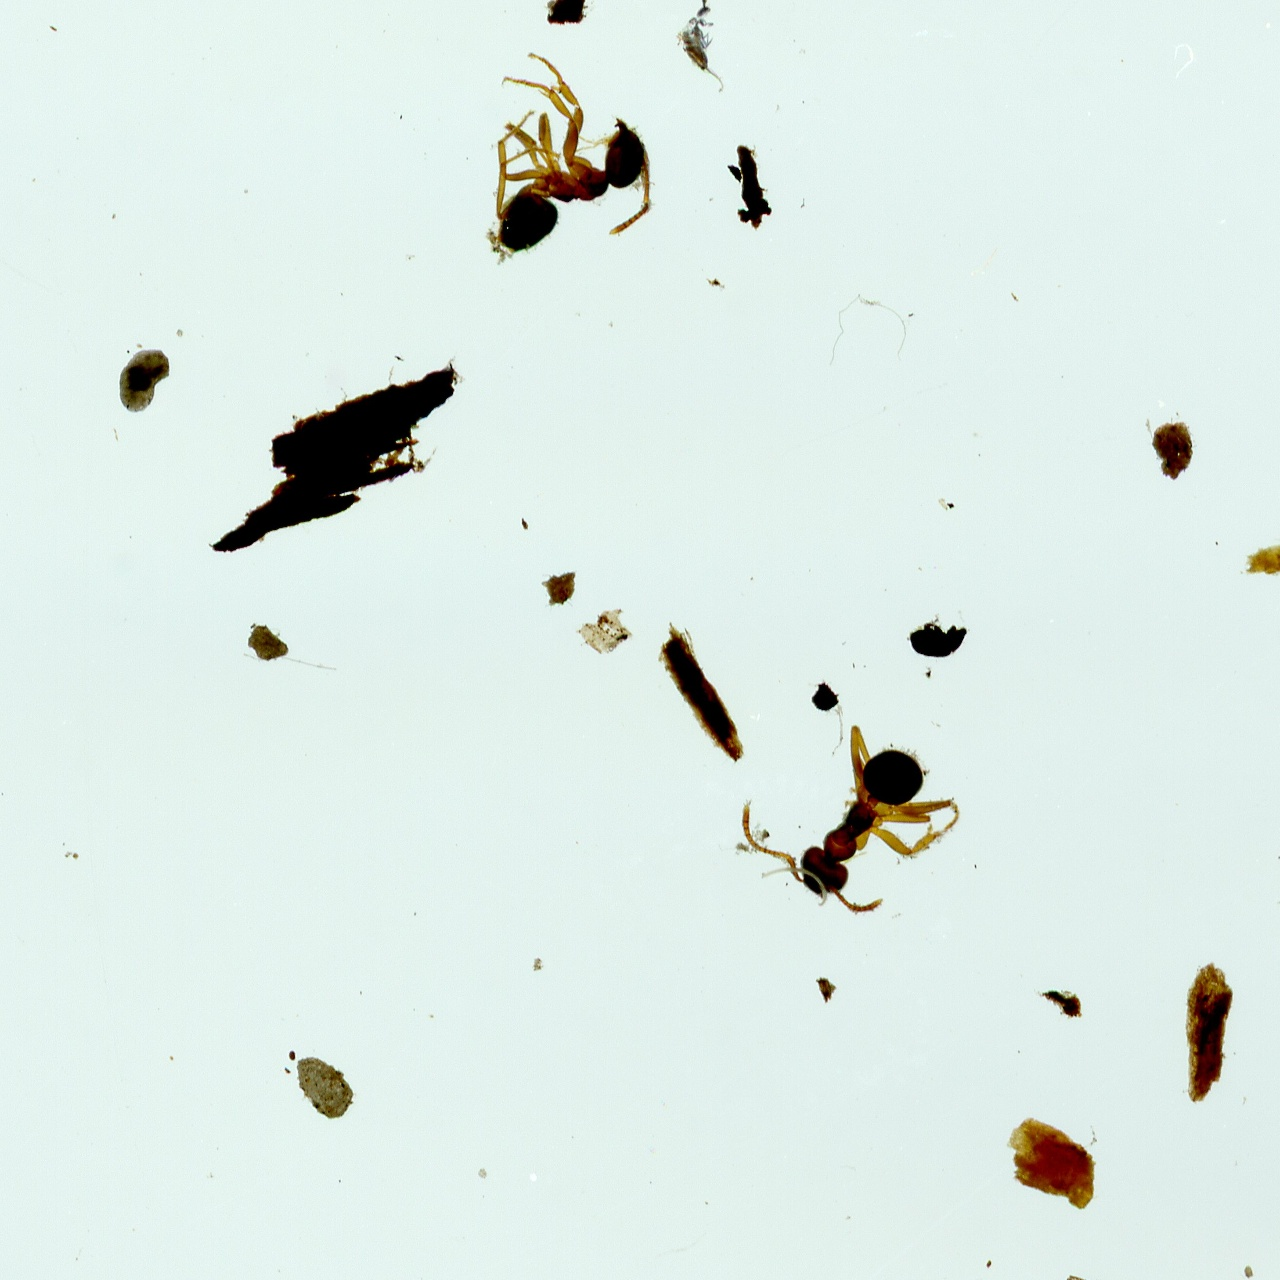arthropod: (714, 676, 992, 954), (478, 47, 665, 266), (669, 0, 742, 98), (906, 620, 971, 662)
